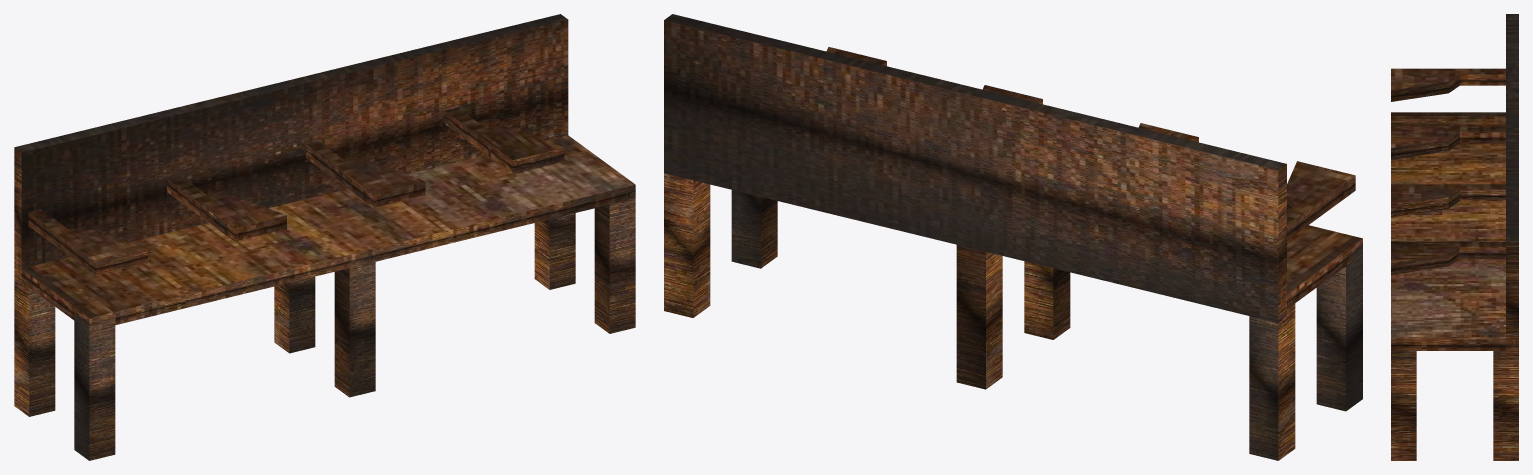
File: nova_taula_cadira.fbx
3 views of the same model, side by side, from view 1: azimuth 30°, elevation 25°; view 2: azimuth 150°, elevation 25°; view 3: azimuth 270°, elevation 25° (orthographic). The views are drawn at different scales.
Visible parts, largest first — view 1: Cube_005; view 2: Cube_005; view 3: Cube_005.
Part boxes in pixels (bbox=[...]): Cube_005: bbox=[14, 14, 635, 460]; Cube_005: bbox=[664, 14, 1362, 460]; Cube_005: bbox=[1391, 14, 1518, 460].
Bounding box in the file's own units: 10.5 × 4.75 × 2.5.
3 materials, 3 textured.
